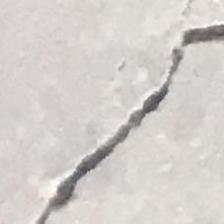Crack: (39, 16, 224, 224)
